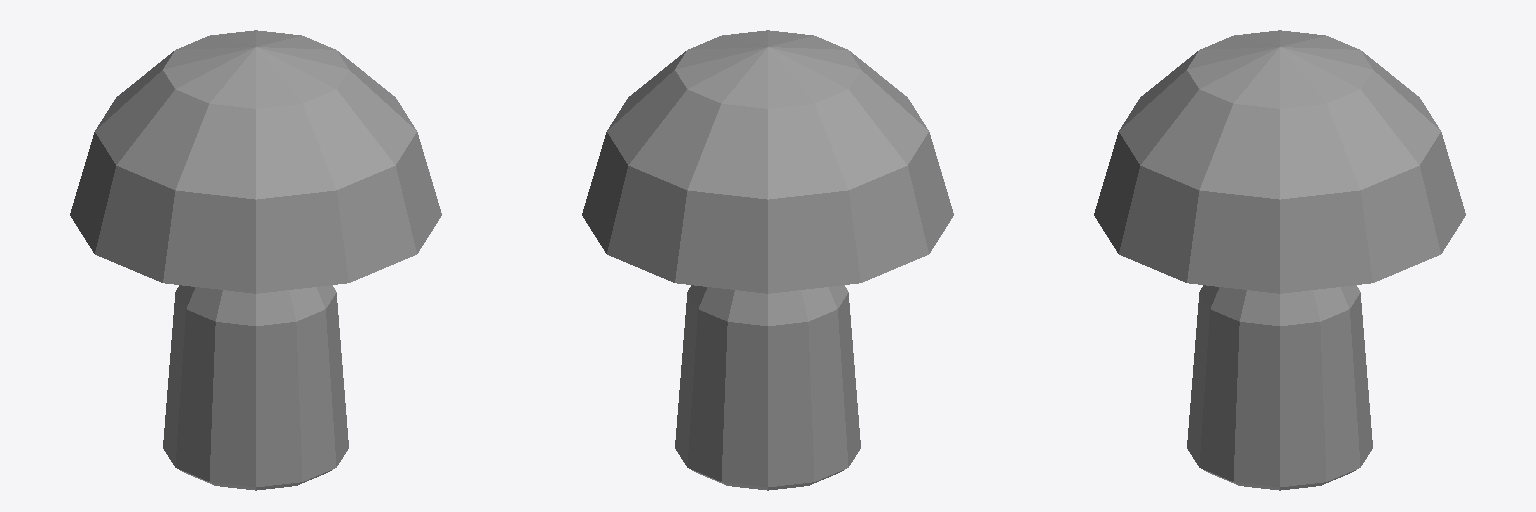
The model's file is mushroomg5.obj.
3 views of the same model, side by side, from view 1: azimuth 30°, elevation 25°; view 2: azimuth 150°, elevation 25°; view 3: azimuth 270°, elevation 25° (orthographic).
Visible parts, largest first — view 1: Sphere.003; view 2: Sphere.003; view 3: Sphere.003.
Boxes of the visible parts, <box> form: Sphere.003: <box>70,30,441,490</box>; Sphere.003: <box>582,30,953,490</box>; Sphere.003: <box>1094,30,1465,490</box>.
Size of the model in its own units: 0.5 by 0.619 by 0.5.